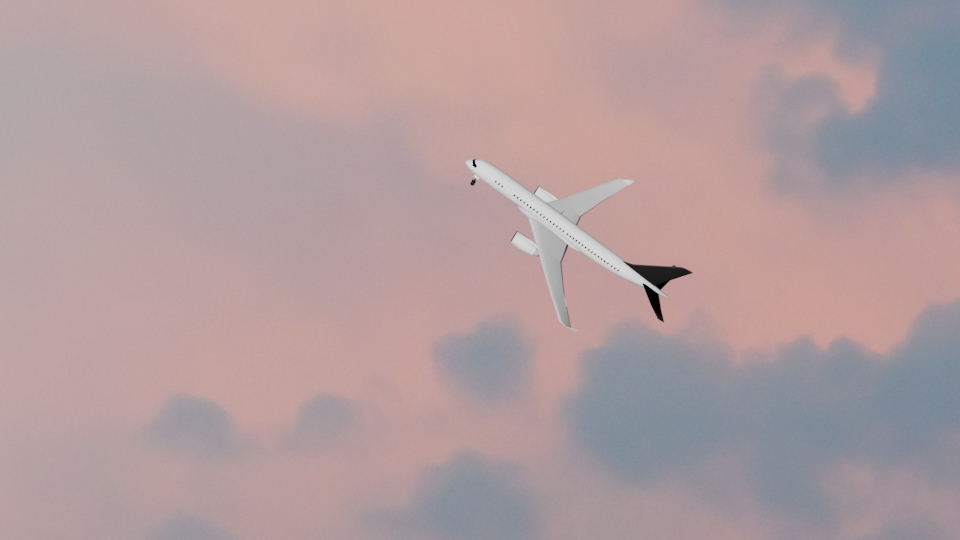plane: (465, 157, 694, 333)
